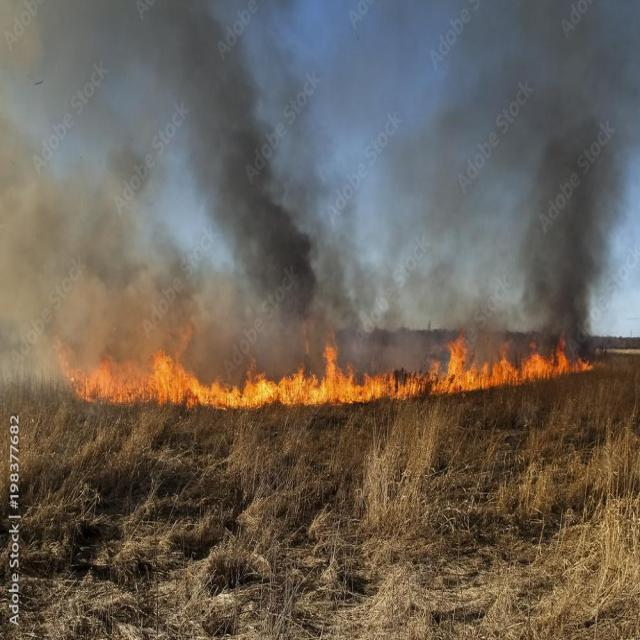Fire: (436, 316, 604, 416), (329, 329, 416, 439), (69, 366, 203, 428), (221, 354, 319, 434)
Smoke: (257, 28, 637, 278), (22, 0, 293, 291), (0, 98, 281, 335), (468, 0, 568, 295)
